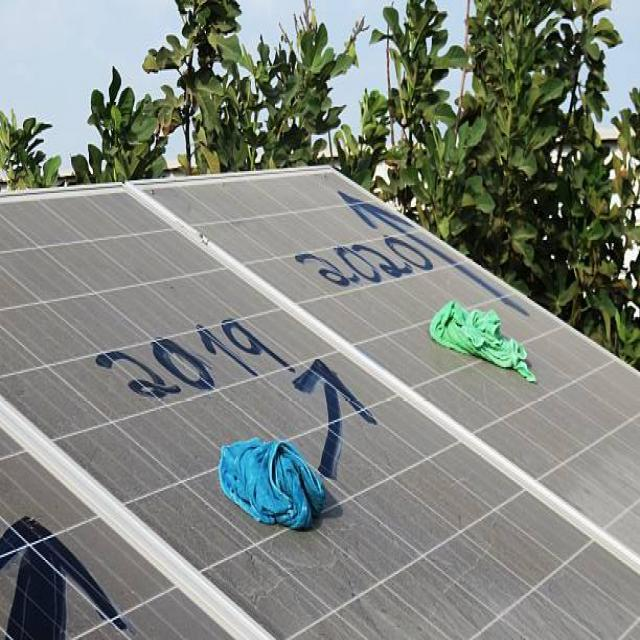faulty: (0, 167, 639, 640)
